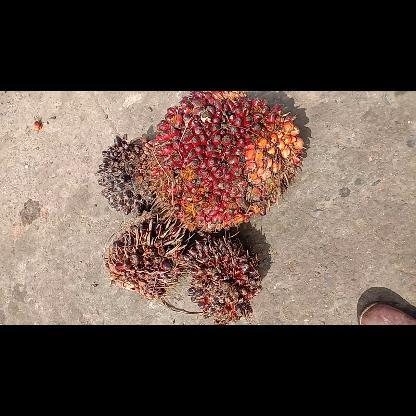TBS abnormal: (182, 234, 264, 324), (104, 218, 188, 304), (93, 132, 157, 216)
TBS masak: (141, 91, 310, 233)
